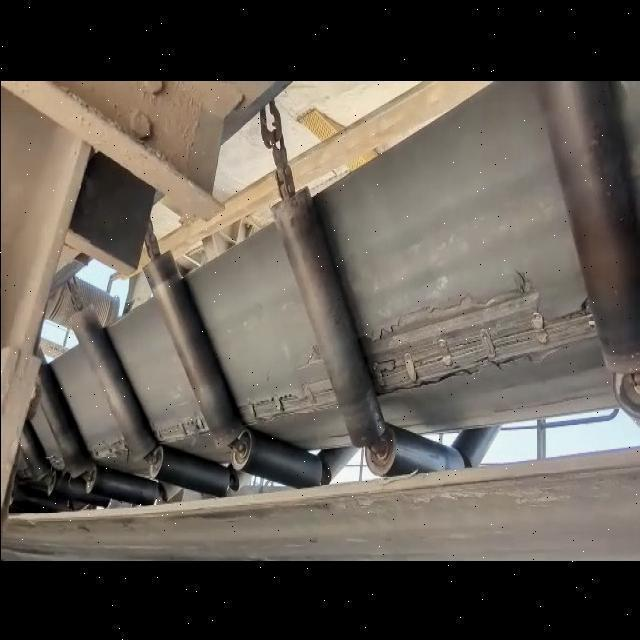Tear: (364, 267, 600, 399), (235, 364, 338, 429), (151, 416, 221, 446), (90, 425, 136, 465)
